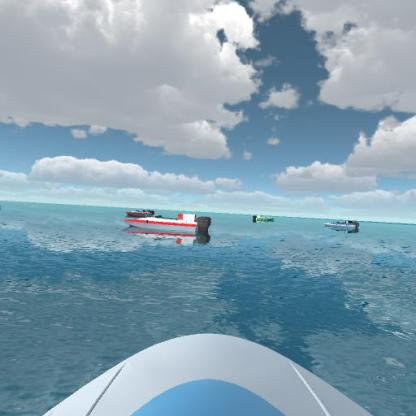usv0: (250, 209, 278, 225)
usv1: (318, 215, 361, 237)
usv3: (118, 212, 217, 244), (125, 204, 158, 219)
